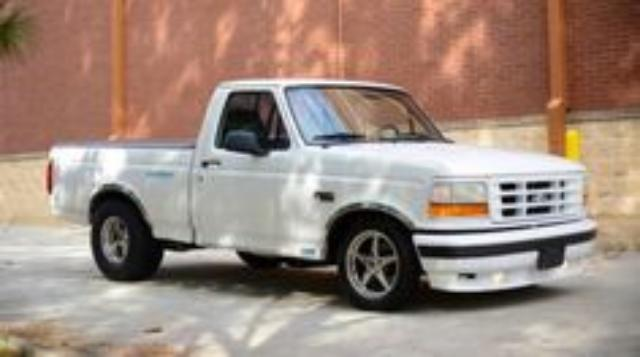pickup-truck: (43, 79, 599, 312)
